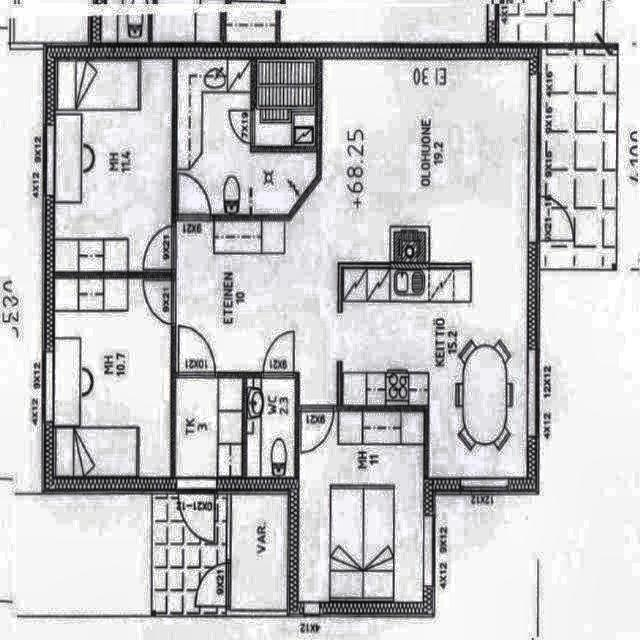room: (55, 60, 172, 271), (299, 412, 423, 601), (54, 279, 171, 476), (178, 60, 316, 214), (231, 495, 287, 609), (176, 379, 241, 476), (255, 61, 315, 146), (247, 380, 294, 476)
